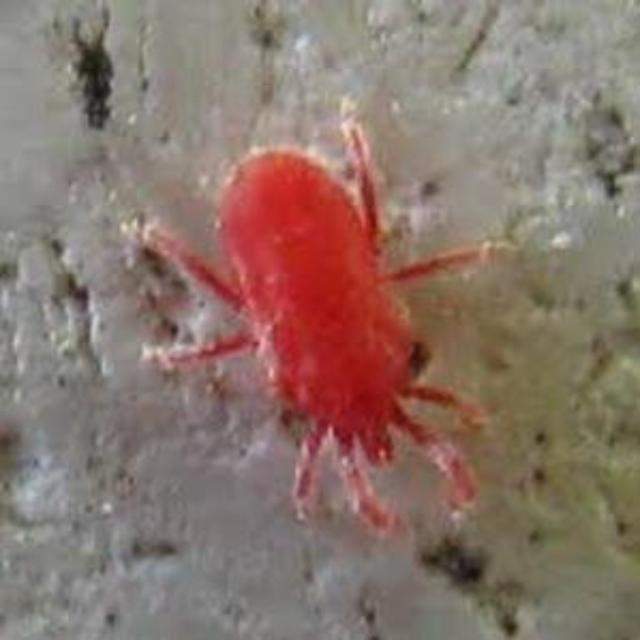spider mite: (101, 86, 555, 552)
